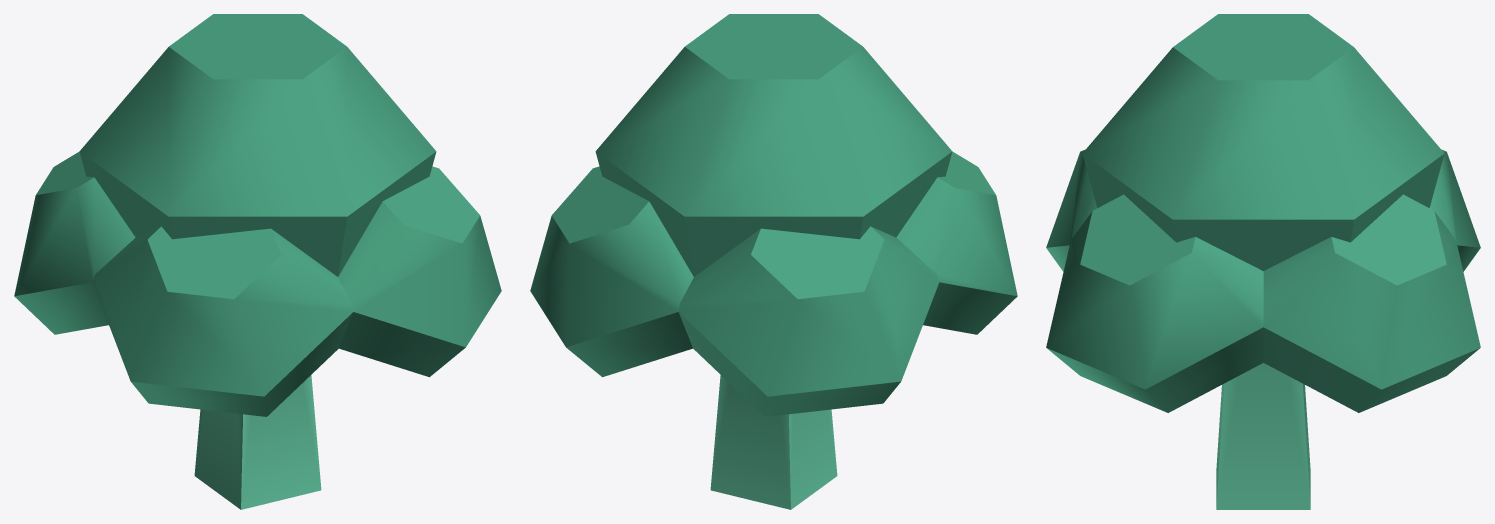
The model's file is broccoli.obj.
3 renders of one model, left to right at view 1: azimuth 30°, elevation 25°; view 2: azimuth 150°, elevation 25°; view 3: azimuth 270°, elevation 25°, orthographic.
Parts seen in each view (by area): view 1: broccoli; view 2: broccoli; view 3: broccoli.
Part boxes in pixels (x1,y1,x2,y2): broccoli: (14, 14, 501, 509); broccoli: (530, 14, 1017, 509); broccoli: (1046, 14, 1480, 509).
Size of the model in its own units: 0.3752 by 0.4217 by 0.3752.
